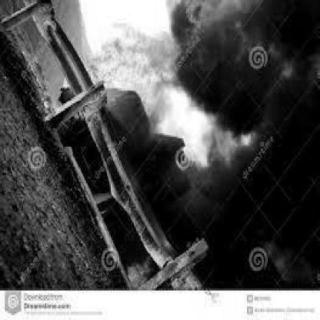Fire: (87, 18, 195, 114)
Smoke: (208, 1, 316, 278)
